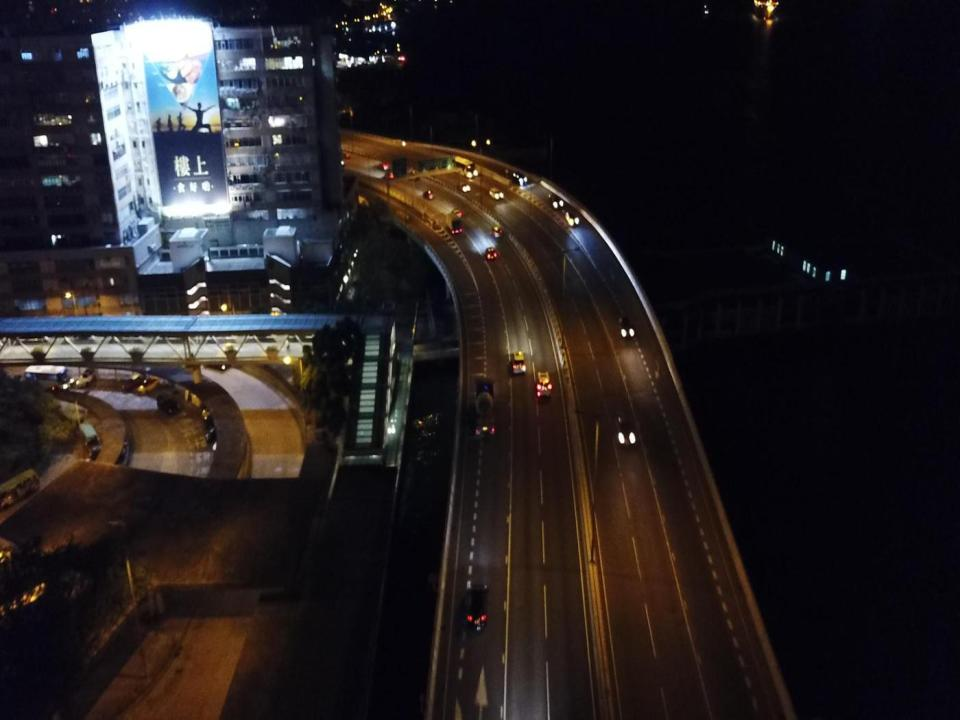bus: (0, 468, 40, 512), (24, 365, 72, 389), (80, 421, 101, 455), (450, 156, 476, 178), (334, 151, 350, 165)
car: (467, 581, 487, 630), (616, 410, 635, 446), (156, 393, 180, 416), (137, 376, 159, 394), (76, 368, 95, 388), (619, 315, 634, 337), (120, 376, 141, 390), (548, 194, 564, 209), (489, 187, 503, 200), (566, 212, 578, 227), (485, 246, 496, 260), (422, 190, 434, 200), (383, 171, 395, 180), (458, 183, 470, 192), (378, 163, 389, 171), (451, 209, 462, 216)
truck: (475, 377, 495, 434), (445, 212, 462, 234)
van: (537, 371, 551, 396), (512, 351, 525, 373), (512, 172, 528, 185), (492, 227, 500, 236)
